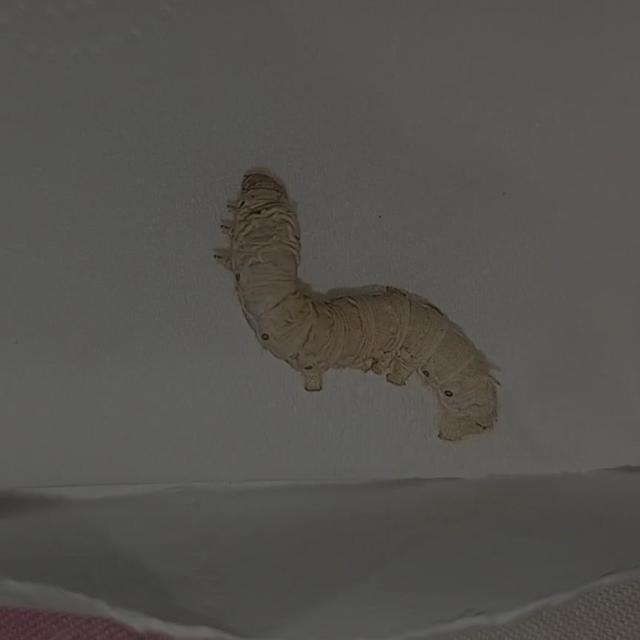Healthy: (196, 134, 522, 468)
